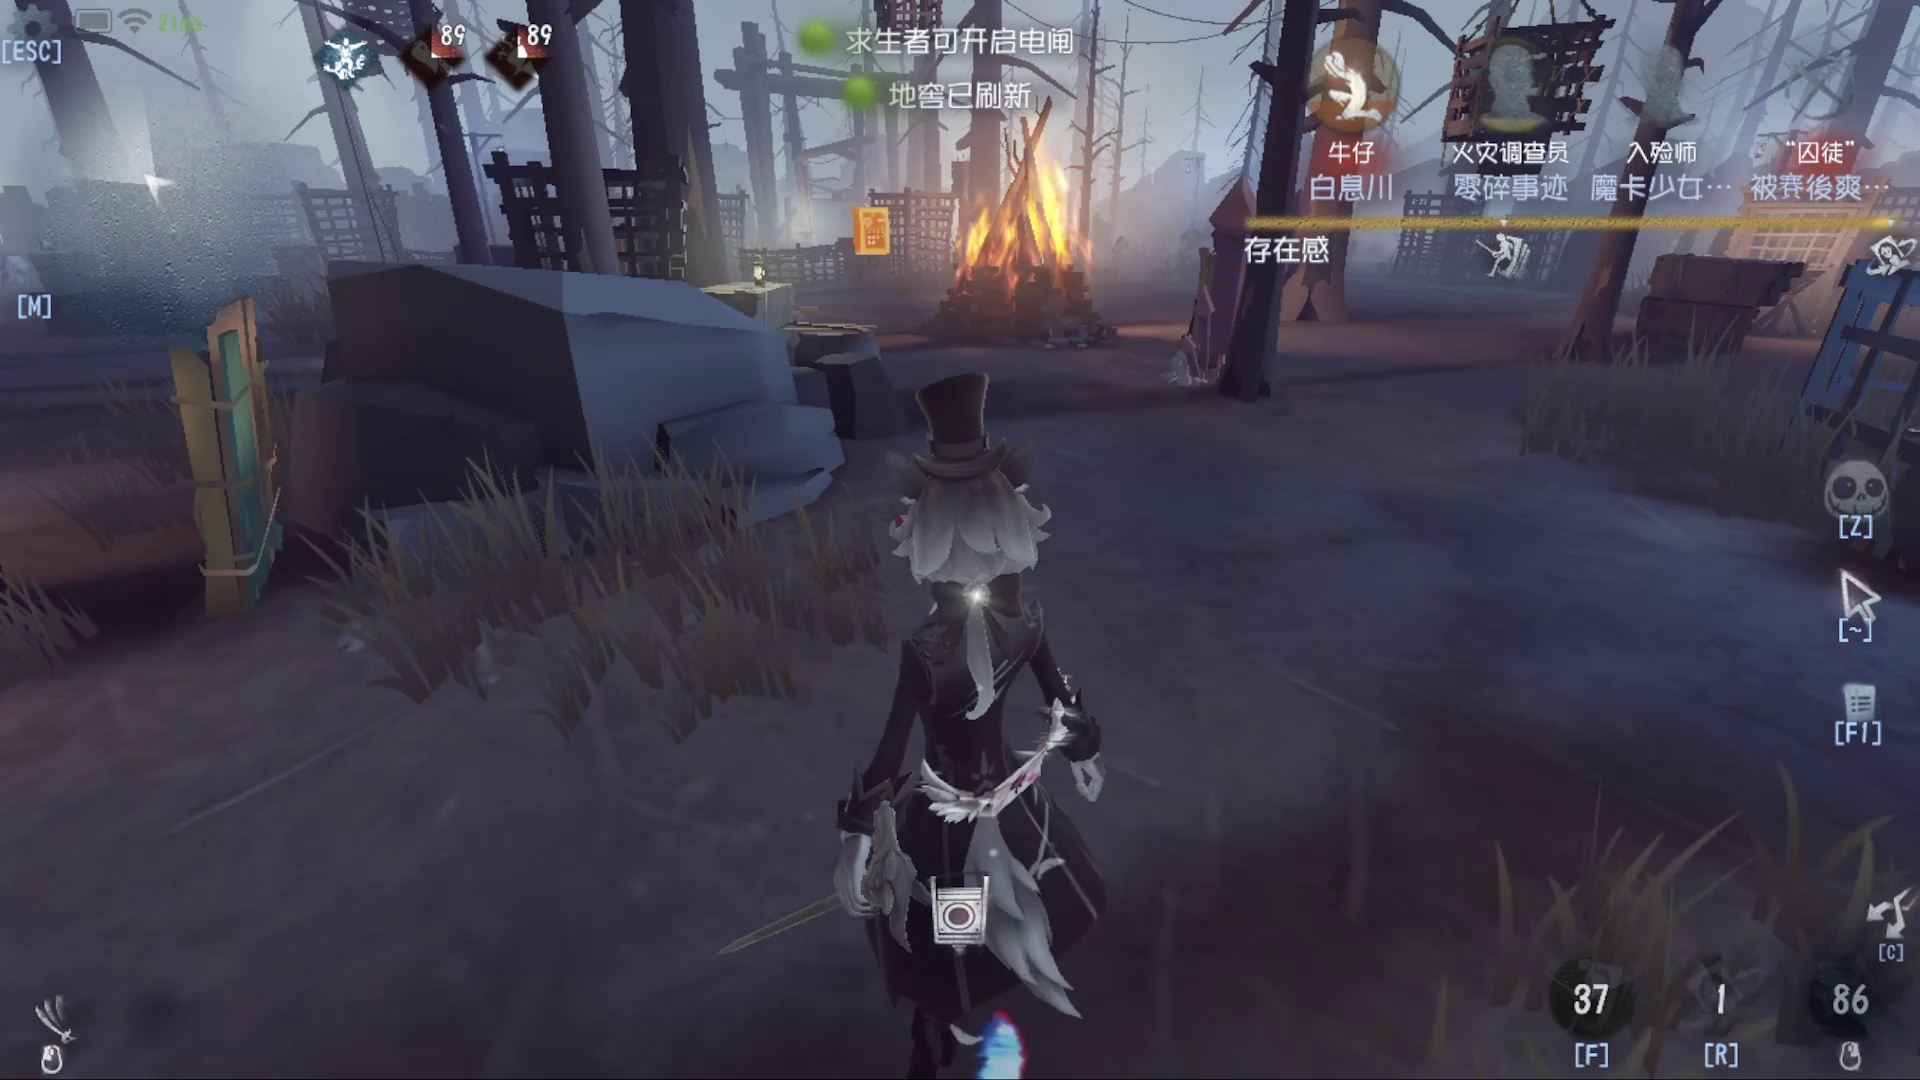木板: (136, 309, 353, 603)
狂欢之椅: (1162, 171, 1276, 410)
